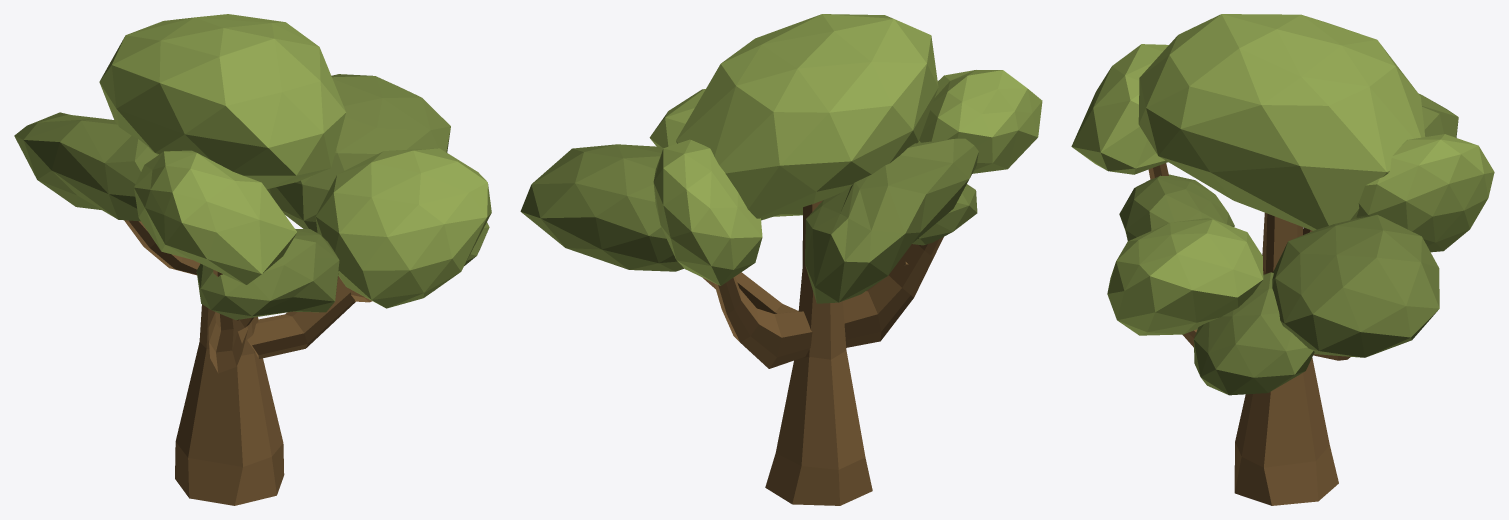
The model's file is Tree_3.FBX.
3 views of the same model, side by side, from view 1: azimuth 30°, elevation 25°; view 2: azimuth 150°, elevation 25°; view 3: azimuth 270°, elevation 25° (orthographic). The views are drawn at different scales.
Parts seen in each view (by area): view 1: tree_3; view 2: tree_3; view 3: tree_3.
Part boxes in pixels (box(x1,y1,x2,y2)): tree_3: box(14, 14, 491, 505); tree_3: box(520, 14, 1042, 505); tree_3: box(1071, 14, 1494, 505).
Size of the model in its own units: 2.82 by 3.16 by 2.7.
1 material, 1 textured.
